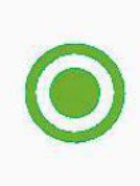RadioButton: (1, 1, 139, 185)
